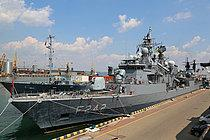MIL_Ship: (16, 31, 206, 119)
